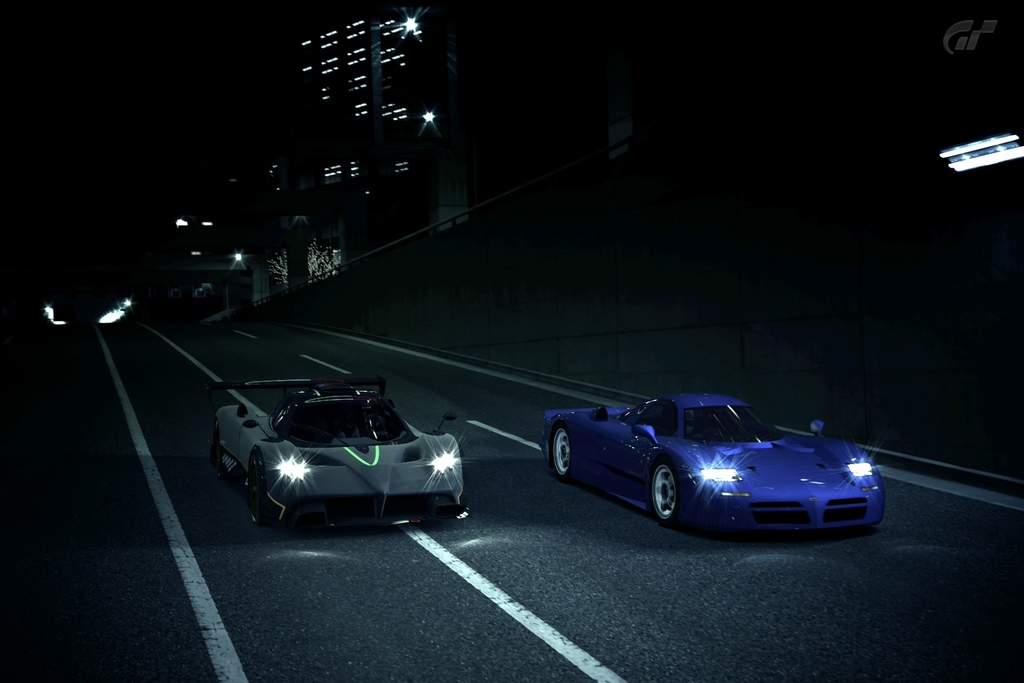Car: (546, 390, 886, 531), (211, 374, 469, 527)
